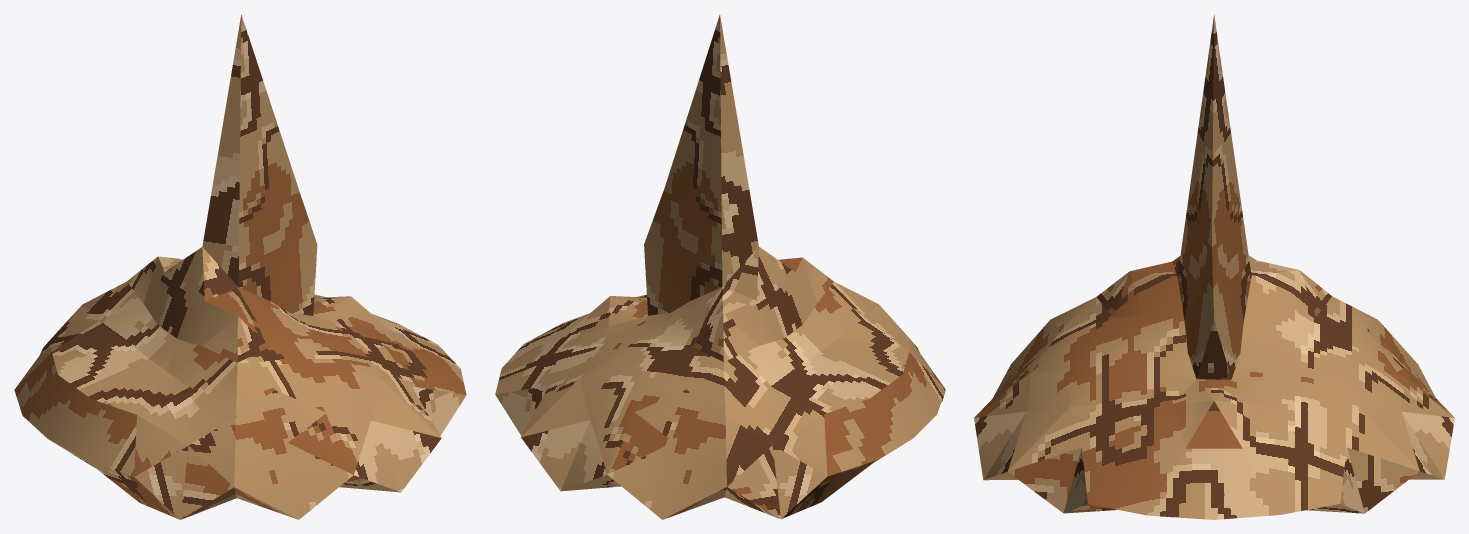
Rendered from stalagmite-300-7.glb.
3 views of the same model, side by side, from view 1: azimuth 30°, elevation 25°; view 2: azimuth 150°, elevation 25°; view 3: azimuth 270°, elevation 25° (orthographic). The views are drawn at different scales.
Size of the model in its own units: 0.7809 by 0.848 by 0.7812.
Materials: 1 (1 with a texture image).
